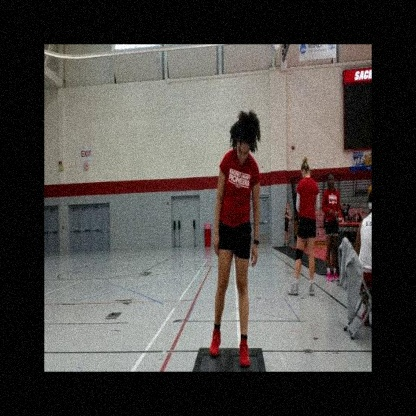lateral_flexion_left: (208, 105, 263, 371)
stance_width_normal: (207, 147, 260, 372)
